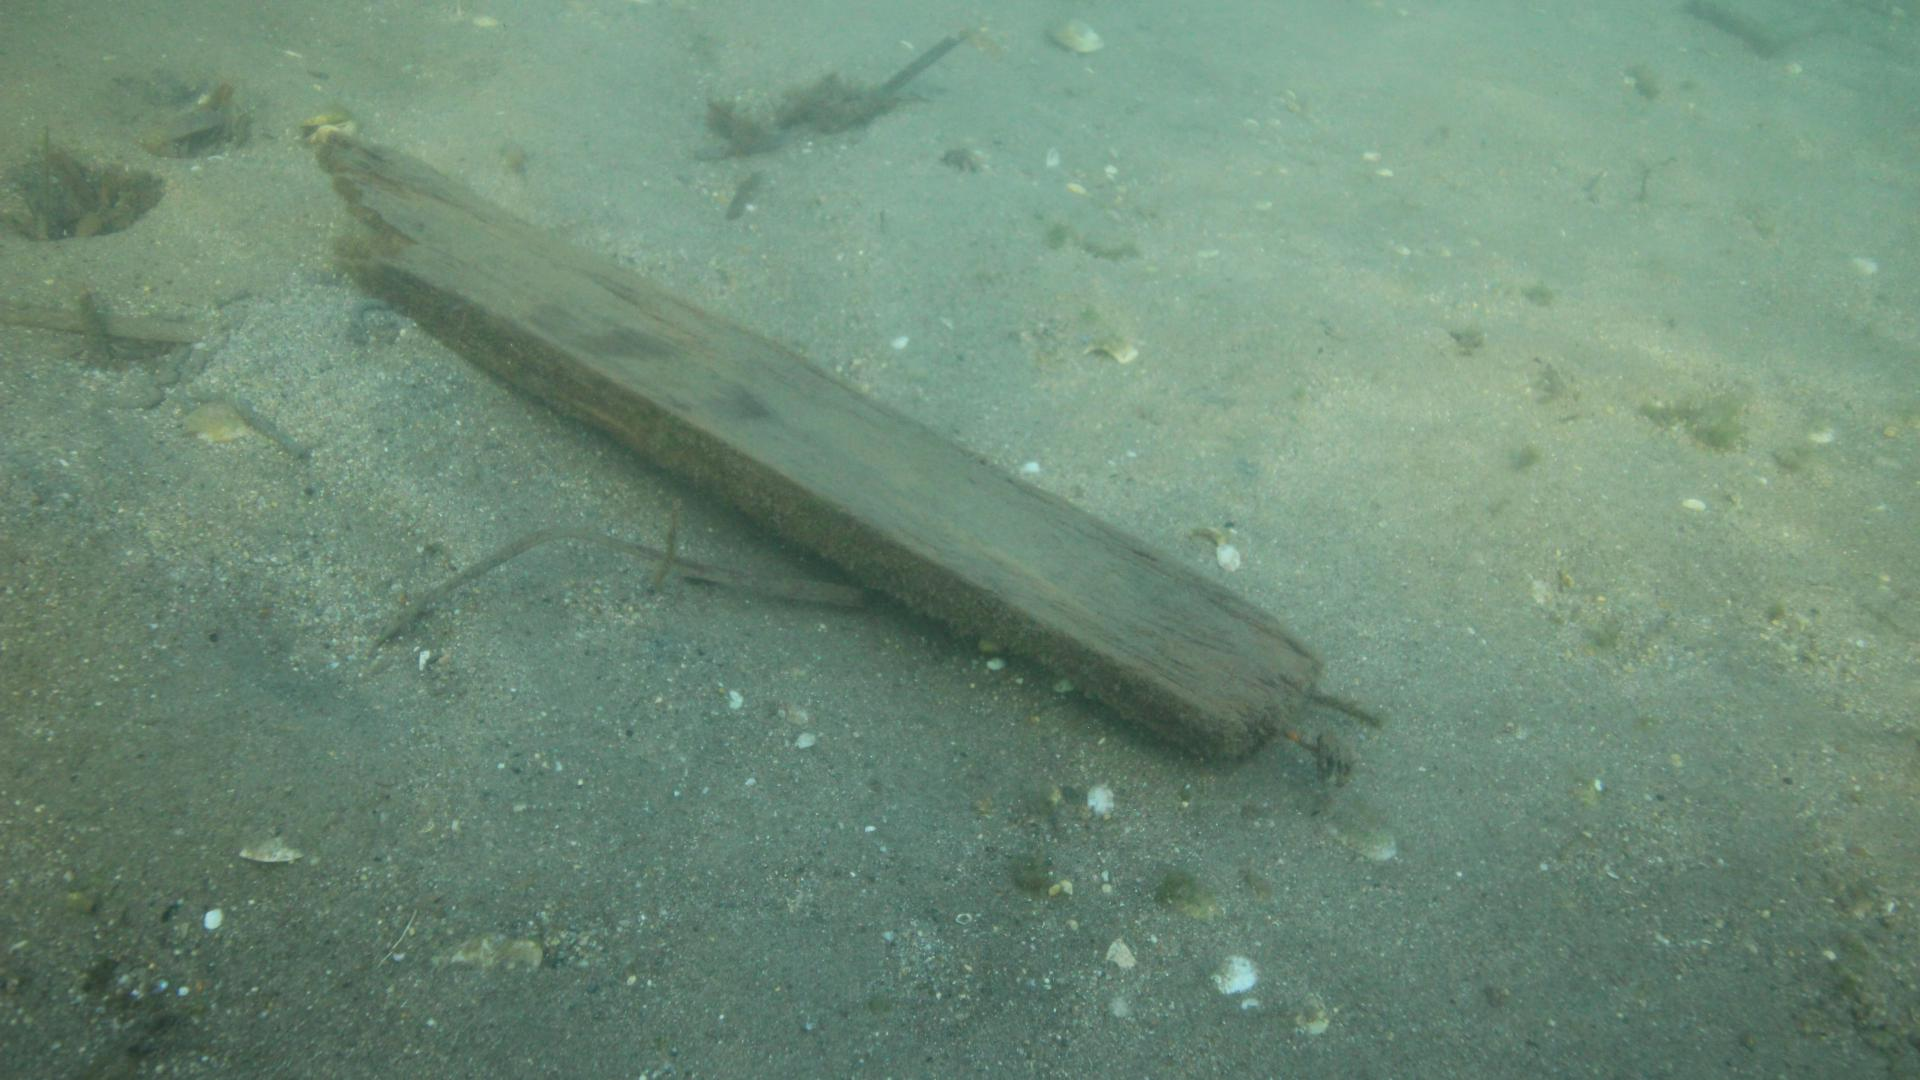wood: (316, 129, 1320, 762)
